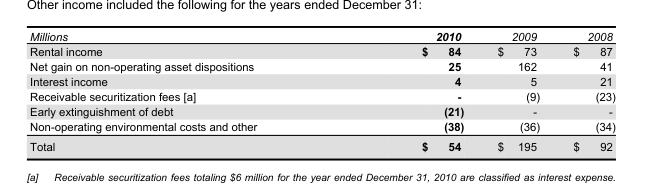table: (29, 29, 614, 152)
table column: (29, 29, 338, 152), (338, 29, 480, 152), (480, 29, 555, 152), (555, 29, 614, 152)
table column header: (29, 29, 614, 43)
table row: (29, 118, 614, 136), (29, 136, 614, 152), (29, 43, 614, 58), (29, 58, 614, 73), (29, 73, 614, 88), (29, 88, 614, 103), (29, 103, 614, 118), (29, 29, 614, 43)
